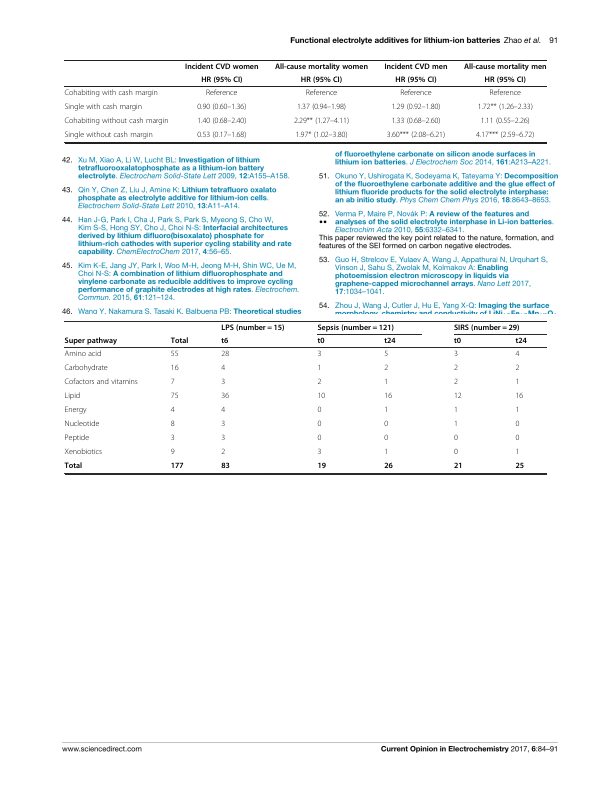borderless: (63, 319, 546, 473), (63, 58, 546, 142)
cell: (63, 116, 169, 126), (63, 88, 159, 98), (64, 130, 154, 140), (274, 62, 369, 71), (63, 102, 143, 112), (463, 62, 547, 71), (64, 377, 139, 387), (316, 323, 395, 332), (184, 62, 259, 71), (453, 323, 520, 332), (386, 130, 446, 140), (475, 130, 535, 140), (383, 62, 448, 71), (220, 323, 285, 332), (477, 102, 534, 112), (293, 116, 350, 126), (294, 130, 348, 140), (64, 336, 118, 346), (196, 102, 247, 112), (296, 102, 347, 112), (390, 102, 441, 112), (196, 116, 247, 126), (390, 116, 441, 126), (480, 116, 531, 126), (196, 130, 247, 140), (64, 363, 109, 373), (200, 75, 243, 85), (300, 75, 343, 85), (394, 75, 437, 85), (484, 75, 527, 85), (64, 447, 103, 457), (64, 349, 102, 359), (64, 419, 100, 429), (399, 88, 433, 98), (488, 88, 522, 98), (205, 88, 238, 98), (305, 88, 338, 98), (64, 433, 90, 443), (64, 405, 87, 415), (170, 336, 189, 346), (64, 461, 83, 471), (64, 391, 81, 401), (383, 336, 397, 346), (514, 336, 528, 346), (170, 461, 184, 471), (220, 461, 231, 471), (316, 461, 327, 471), (383, 461, 394, 471), (514, 461, 525, 471), (220, 349, 230, 359), (220, 391, 230, 401), (316, 391, 326, 401), (383, 391, 393, 401), (453, 391, 463, 401), (514, 391, 524, 401), (453, 461, 463, 471), (220, 336, 229, 346), (316, 336, 325, 346), (453, 336, 462, 346), (170, 349, 179, 359), (170, 363, 179, 373), (170, 391, 179, 401), (316, 349, 322, 359), (383, 349, 389, 359), (453, 349, 459, 359), (514, 349, 520, 359), (220, 363, 226, 373), (316, 363, 322, 373), (383, 363, 389, 373), (453, 363, 459, 373), (514, 363, 520, 373), (170, 377, 176, 387), (220, 377, 226, 387), (316, 377, 322, 387), (383, 377, 389, 387), (453, 377, 459, 387), (514, 377, 520, 387), (170, 405, 176, 415), (220, 405, 226, 415), (316, 405, 322, 415), (383, 405, 389, 415), (453, 405, 459, 415), (514, 405, 520, 415), (170, 419, 176, 429), (220, 419, 226, 429), (316, 419, 322, 429), (383, 419, 389, 429), (453, 419, 459, 429), (514, 419, 520, 429), (170, 433, 176, 443), (220, 433, 226, 443), (316, 433, 322, 443), (383, 433, 389, 443), (453, 433, 459, 443), (514, 433, 520, 443), (170, 447, 176, 457), (220, 447, 226, 457), (316, 447, 322, 457), (383, 447, 389, 457), (453, 447, 459, 457), (514, 447, 520, 457)
